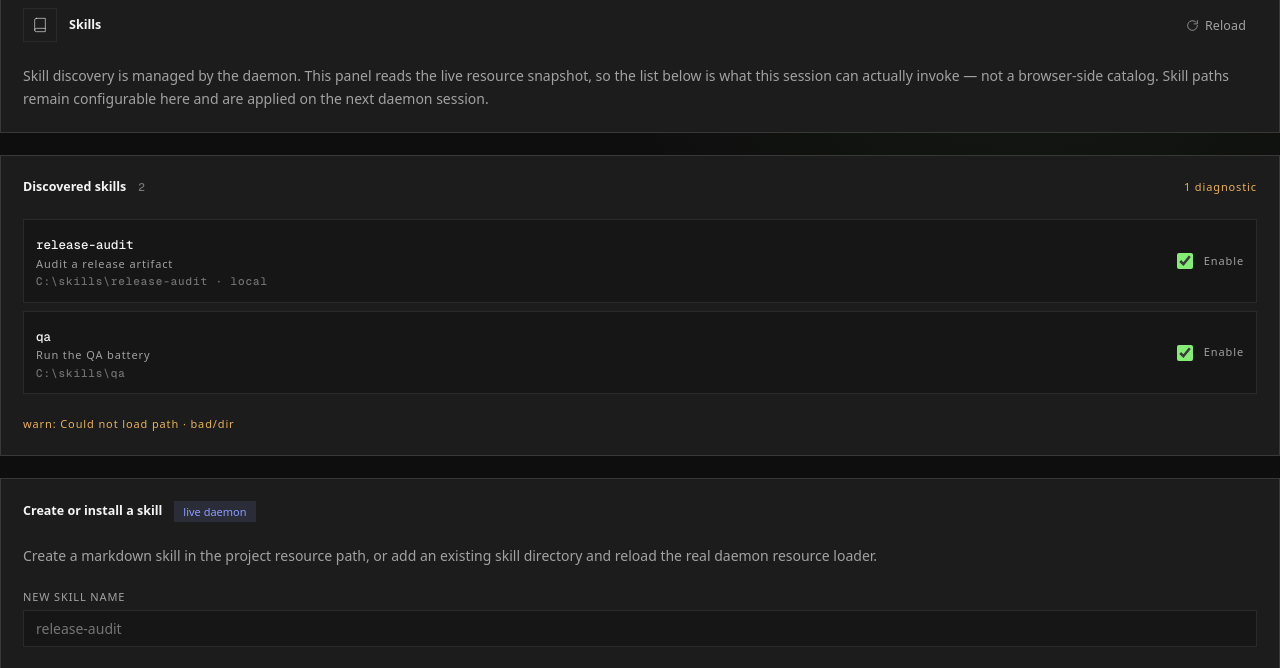
Test: SkillsPanel › surfaces a create error in the action area
The width and height of the screenshot is (1280, 668).
Expected: the text "release-audit" is shown, [36,236,134,253]
Type "x" into the field labelled "New skill name" at (640,628), box [36,610,1244,646]
(page scrolled)
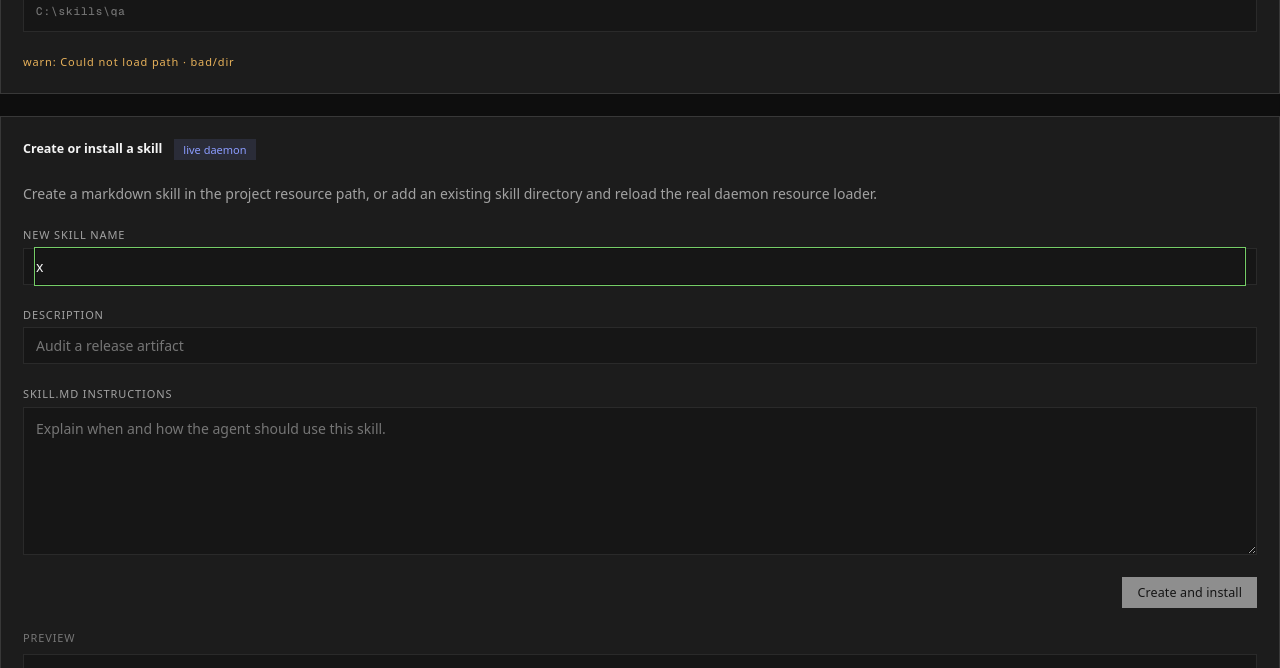
Type "y" into the field labelled "Description" at (640,346), box [36,328,1244,363]
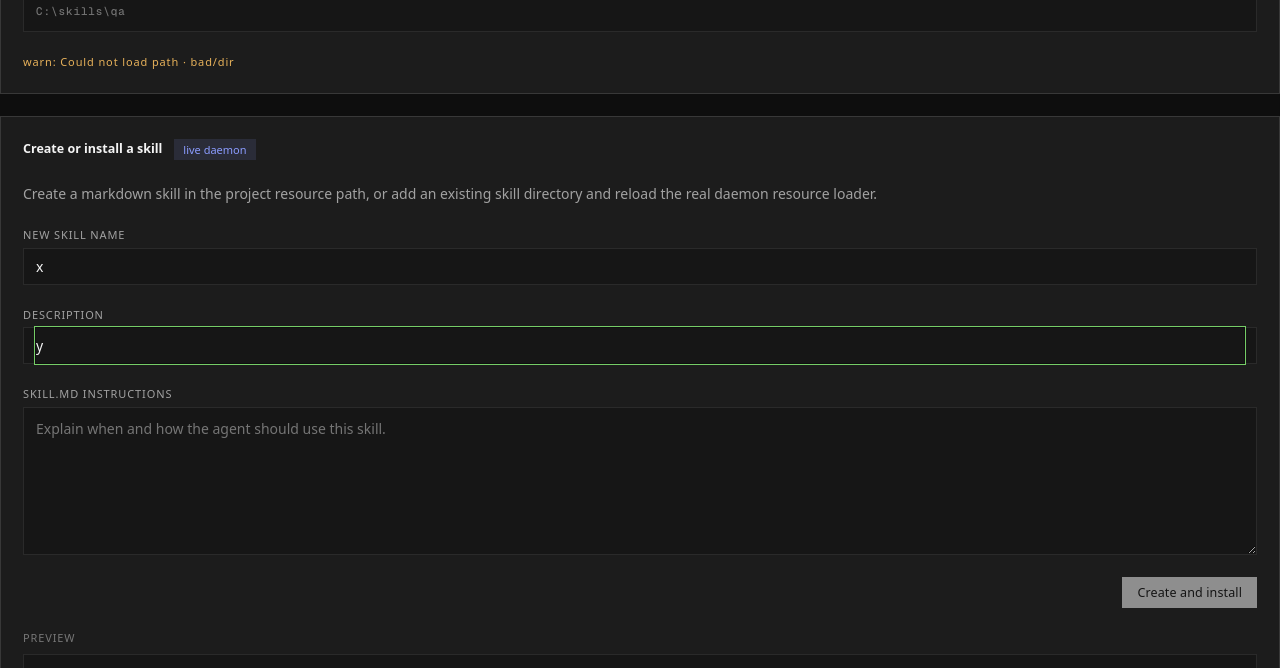
Type "z" into the text box labelled "SKILL.md instructions" at (640,480), box [23,406,1257,554]
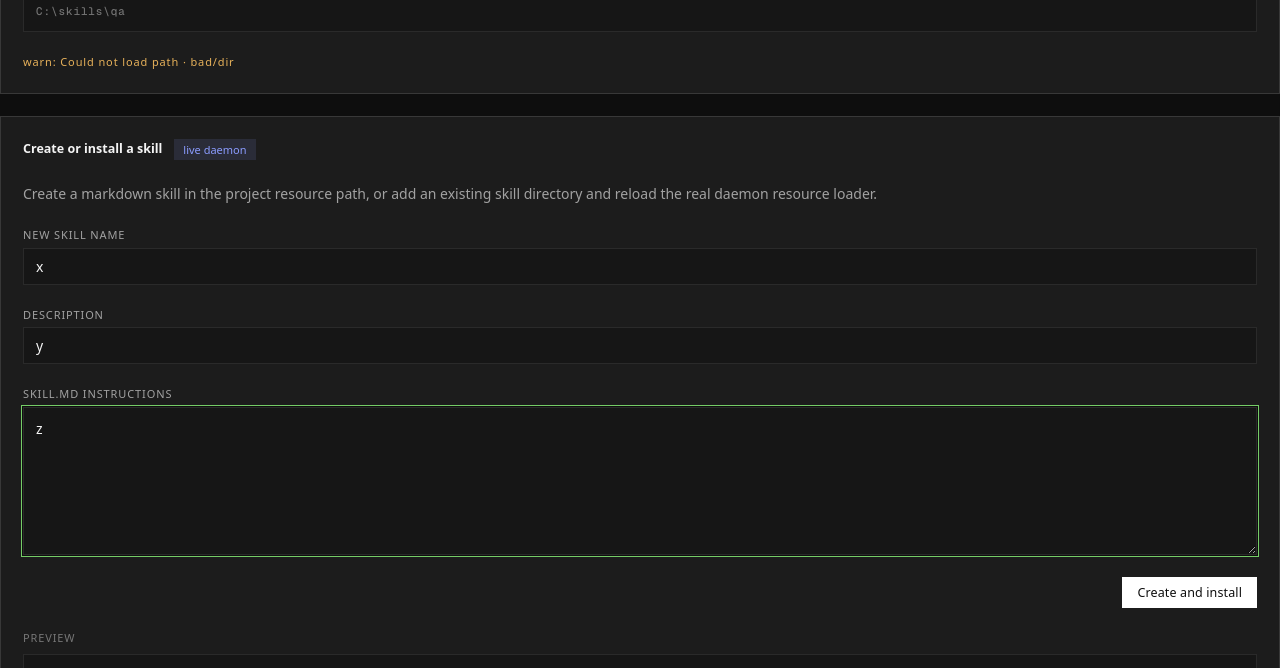
Click the button "Create and install" at (1190,592), box [1122,576,1257,608]
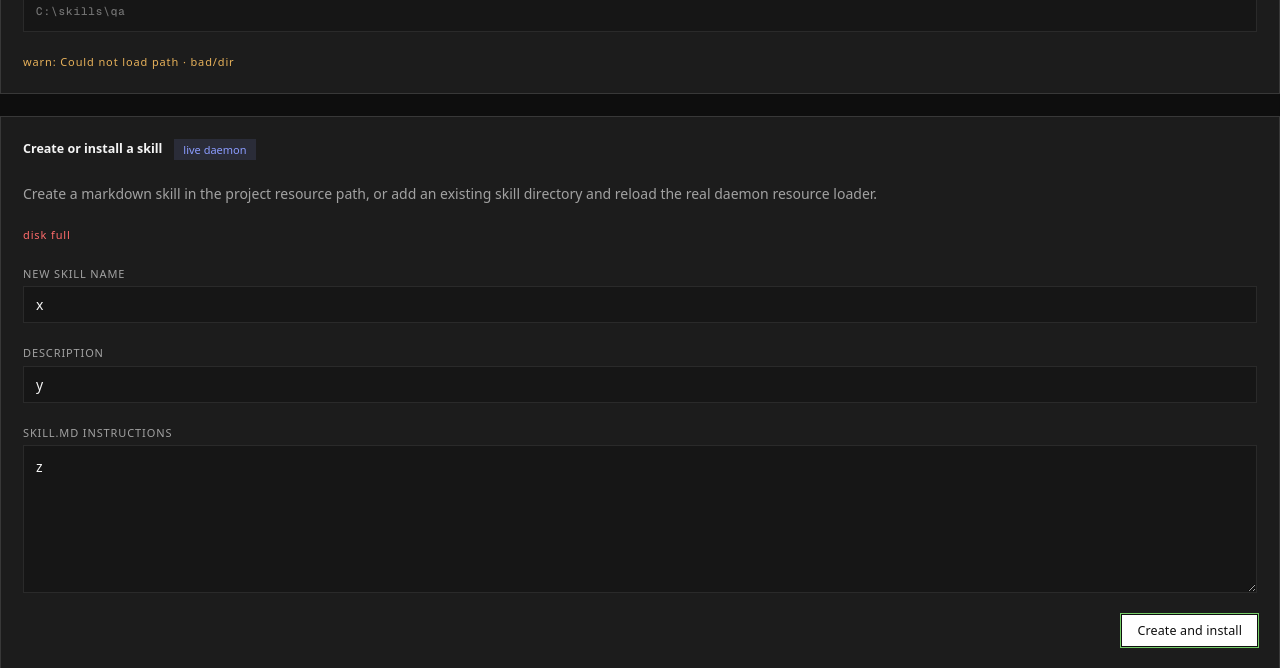
Now the text "disk full" is shown, box [23,227,71,242]
